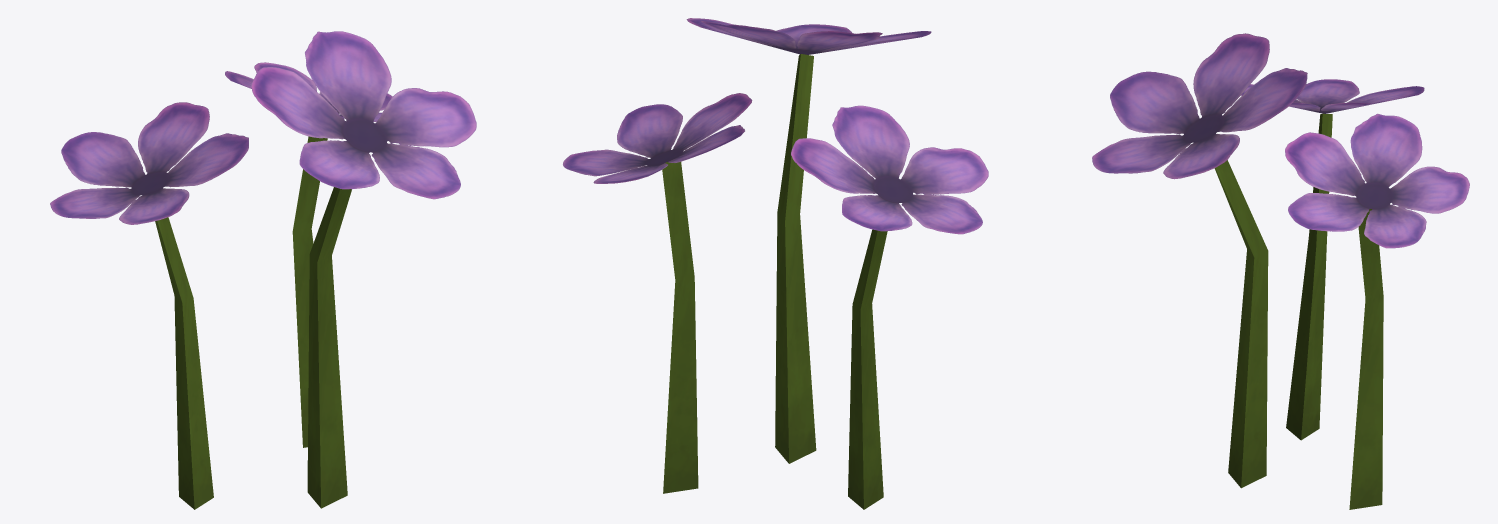
Rendered from flower1.fbx.
3 renders of one model, left to right at view 1: azimuth 30°, elevation 25°; view 2: azimuth 150°, elevation 25°; view 3: azimuth 270°, elevation 25°, orthographic. The views are drawn at different scales.
Visible parts, largest first — view 1: polySurface2269; view 2: polySurface2269; view 3: polySurface2269.
Part boxes in pixels (<box>): polySurface2269: <box>50,31,476,509</box>; polySurface2269: <box>563,18,988,509</box>; polySurface2269: <box>1092,33,1469,509</box>.
Bounding box in the file's own units: 0.5553 × 0.5746 × 0.5248.
